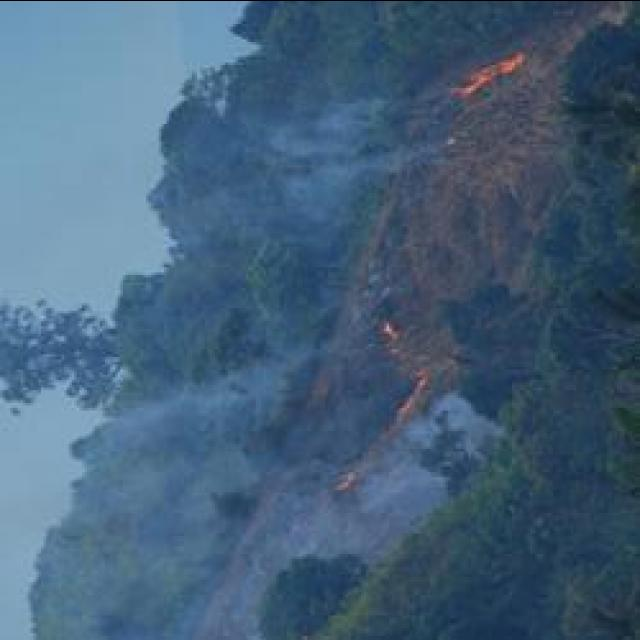fire: (444, 48, 526, 106)
smoke: (137, 352, 291, 458), (266, 102, 412, 196), (393, 386, 511, 454), (350, 463, 450, 518)
